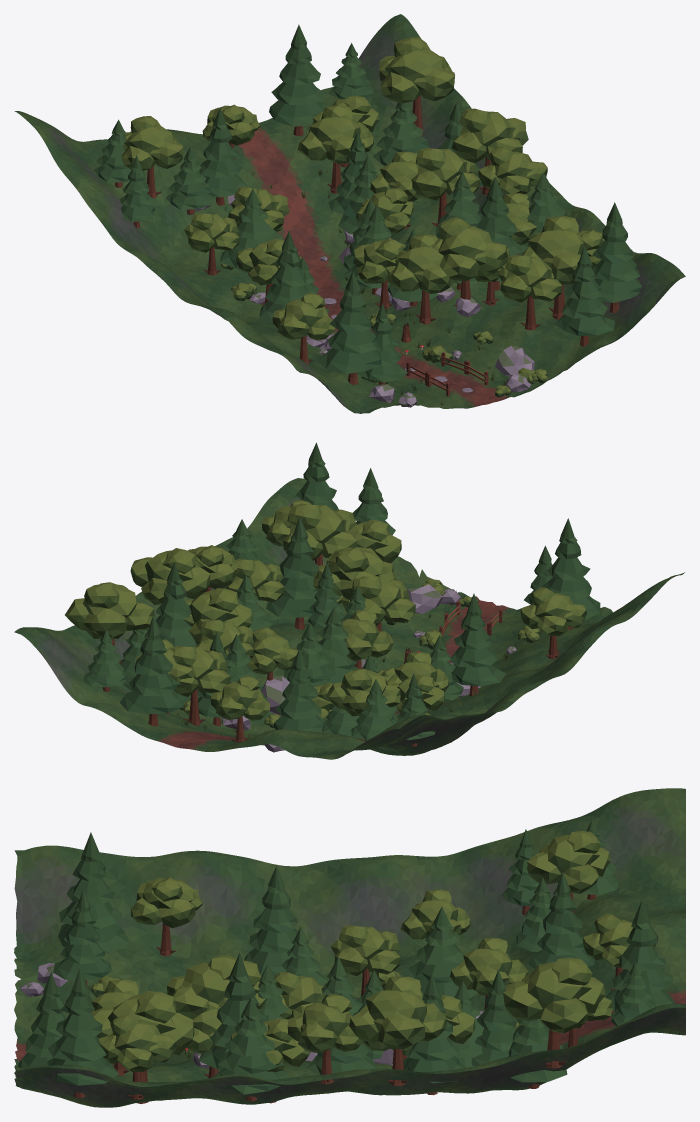
File: forest.glb
The picture shows the model from 3 angles, top to bottom: view 1: azimuth 30°, elevation 25°; view 2: azimuth 150°, elevation 25°; view 3: azimuth 270°, elevation 25°; orthographic projection. The views are drawn at different scales.
Visible parts, largest first — view 1: Forest_Terrain, Tree.043, Tree.036, Tree.009, Tree.026, Tree.041, Tree.013, Tree.031, Tree.008, Tree.024, Tree.040, Tree.042 (+30 smaller); view 2: Forest_Terrain, Tree.043, Tree.026, Tree.025, Tree.032, Tree.013, Tree.024, Tree.031, Tree.036, Tree.018, Tree.028, Tree.008 (+33 smaller); view 3: Forest_Terrain, Tree.043, Tree.013, Tree.041, Tree.027, Tree.036, Tree.034, Tree.039, Tree.032, Tree.037, Tree.028, Tree.026 (+30 smaller).
Boxes of the visible parts, <box> form: Forest_Terrain: <box>14,14,685,413</box>; Tree.043: <box>379,37,455,134</box>; Tree.036: <box>317,271,381,384</box>; Tree.009: <box>431,217,508,306</box>; Tree.026: <box>269,24,329,136</box>; Tree.041: <box>591,202,641,312</box>; Tree.013: <box>451,108,528,195</box>; Tree.031: <box>297,105,373,193</box>; Tree.008: <box>387,234,455,324</box>; Tree.024: <box>521,216,591,319</box>; Tree.040: <box>555,245,614,346</box>; Tree.042: <box>411,148,480,226</box>; Forest_Terrain: <box>14,478,684,759</box>; Tree.043: <box>65,582,154,663</box>; Tree.026: <box>119,615,185,726</box>; Tree.025: <box>266,517,318,629</box>; Tree.032: <box>449,593,506,696</box>; Tree.013: <box>130,548,210,604</box>; Tree.024: <box>282,503,357,565</box>; Tree.031: <box>171,646,230,725</box>; Tree.036: <box>542,518,600,629</box>; Tree.018: <box>273,649,326,732</box>; Tree.028: <box>520,587,586,659</box>; Tree.008: <box>340,576,415,656</box>; Forest_Terrain: <box>14,788,685,1107</box>; Tree.043: <box>503,957,605,1068</box>; Tree.013: <box>349,976,447,1085</box>; Tree.041: <box>47,968,119,1098</box>; Tree.027: <box>527,831,610,913</box>; Tree.036: <box>58,832,129,952</box>; Tree.034: <box>213,996,288,1101</box>; Tree.039: <box>287,994,363,1084</box>; Tree.032: <box>244,866,297,976</box>; Tree.037: <box>99,1014,176,1099</box>; Tree.028: <box>131,877,202,956</box>; Tree.026: <box>605,900,675,1011</box>.
Bounding box in the file's own units: 48.26 × 19.9 × 61.51.
